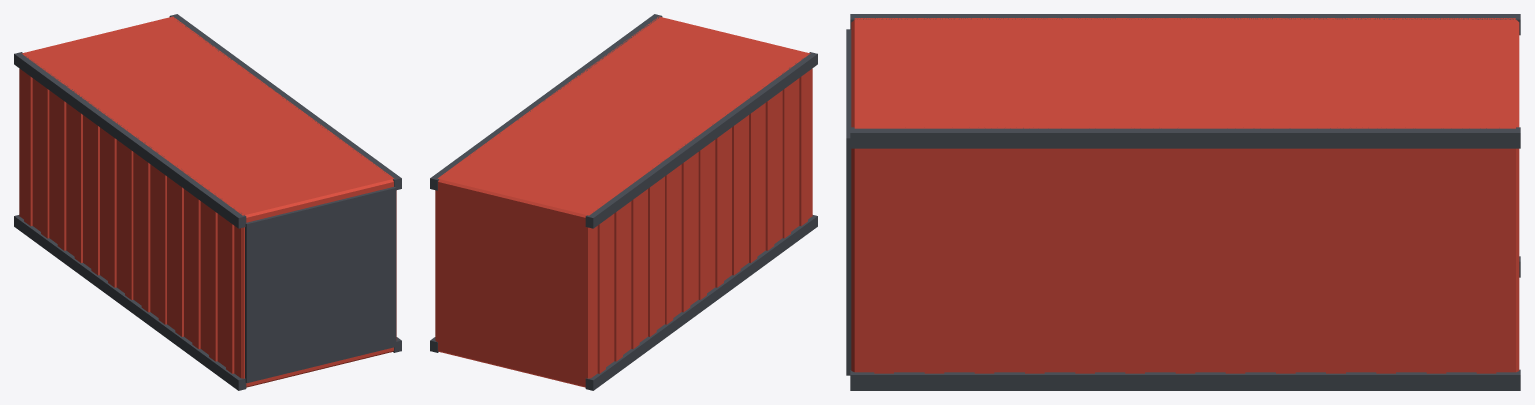
Rendered from container.glb.
3 views of the same model, side by side, from view 1: azimuth 30°, elevation 25°; view 2: azimuth 150°, elevation 25°; view 3: azimuth 270°, elevation 25° (orthographic). The views are drawn at different scales.
Visible parts, largest first — view 1: container_body; view 2: container_body; view 3: container_body.
Part boxes in pixels (left/top/right/bottom): container_body: left=14, top=14, right=401, bottom=390; container_body: left=430, top=14, right=817, bottom=390; container_body: left=846, top=14, right=1520, bottom=390.
Bounding box in the file's own units: 2.57 × 2.6 × 6.15.
